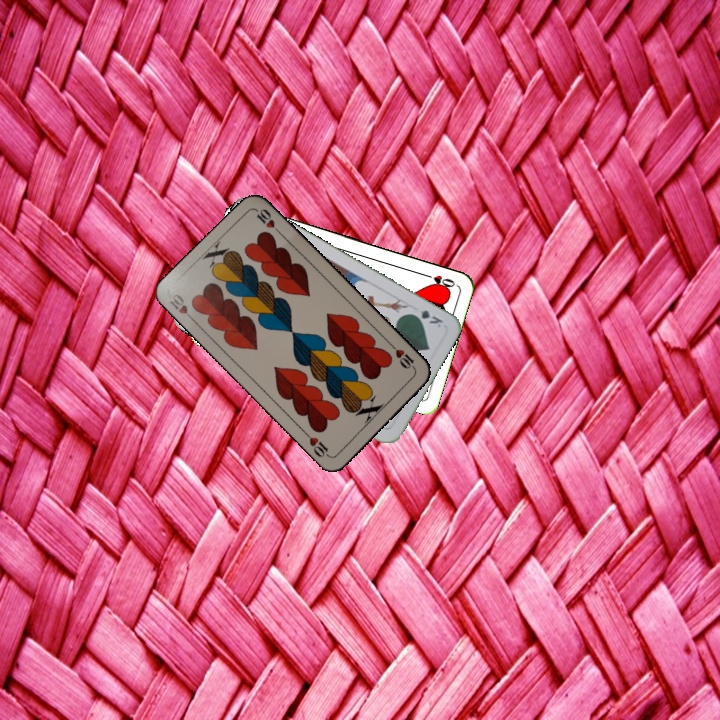GK: (407, 306, 446, 331)
H10: (166, 289, 198, 325), (386, 340, 418, 372)
HO: (419, 269, 458, 291)
